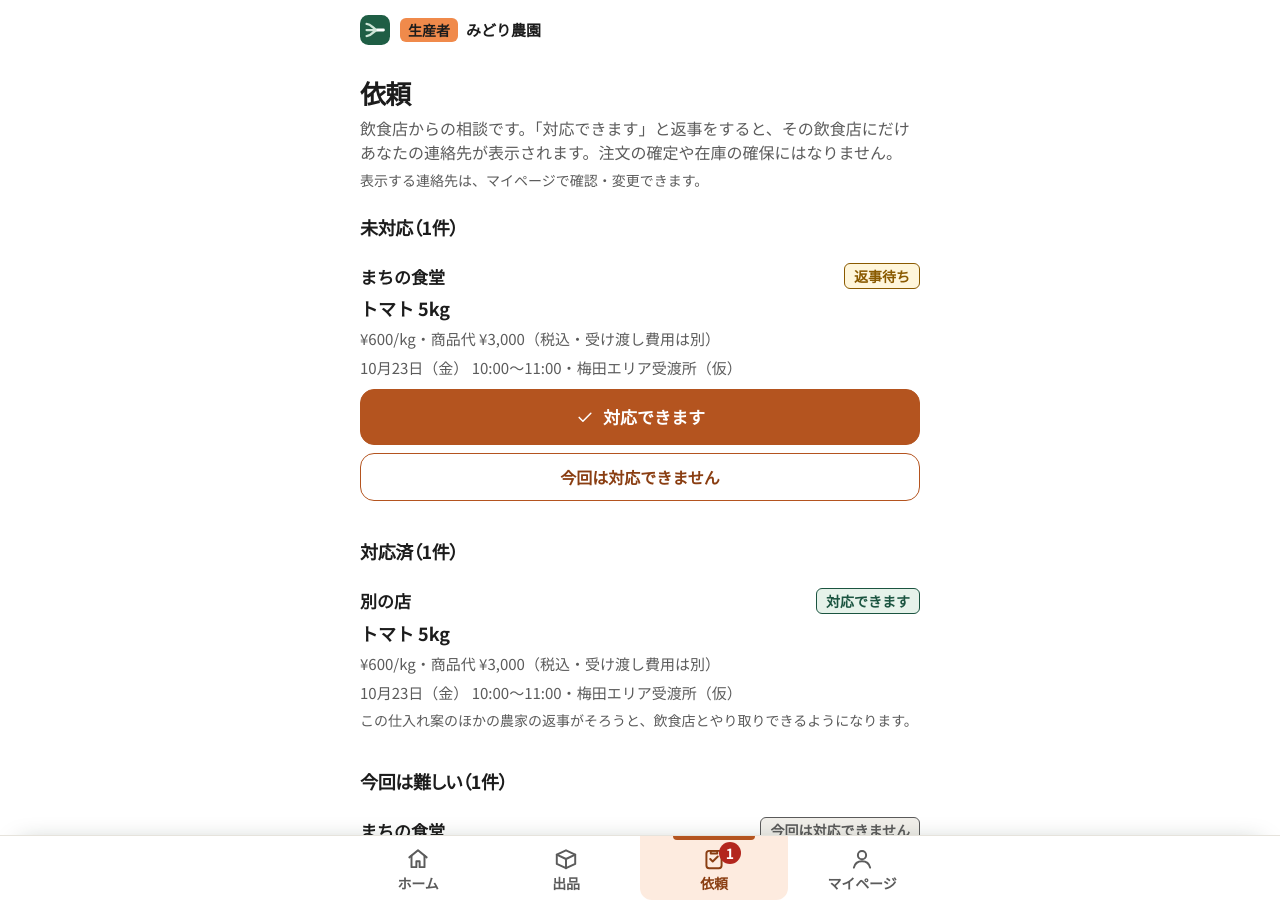
生産者の「依頼」 › 未対応を先に、ふつうの言葉のボタンで返事。返事のあとは対応済に移り、バッジも減る
Expected: the button "今回は対応できません" is shown, [360,454,920,502]
What coordinates should you click on to do the following:
click the button "対応できます"
I would click on:
 (640, 418)
Its box is [360,390,920,446].
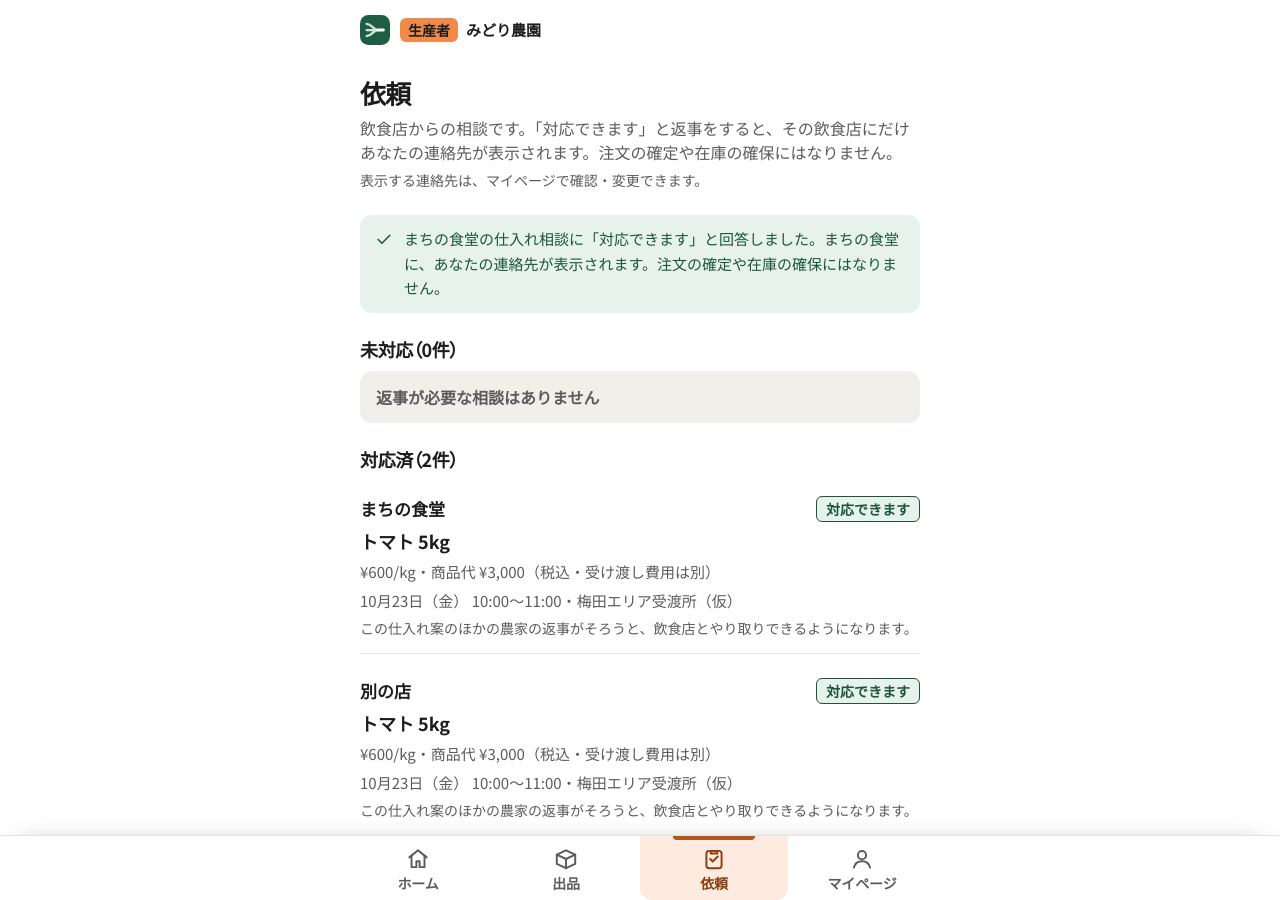
Expected: the message with class "alert" reads "まちの食堂の仕入れ相談に「対応できます」と回答しました。まちの食堂に、あなたの連絡先が表示されます。注文の確定や在庫の確保にはなりません。", [404,228,899,298]
Expected: the text with class "nav-badge" is gone
